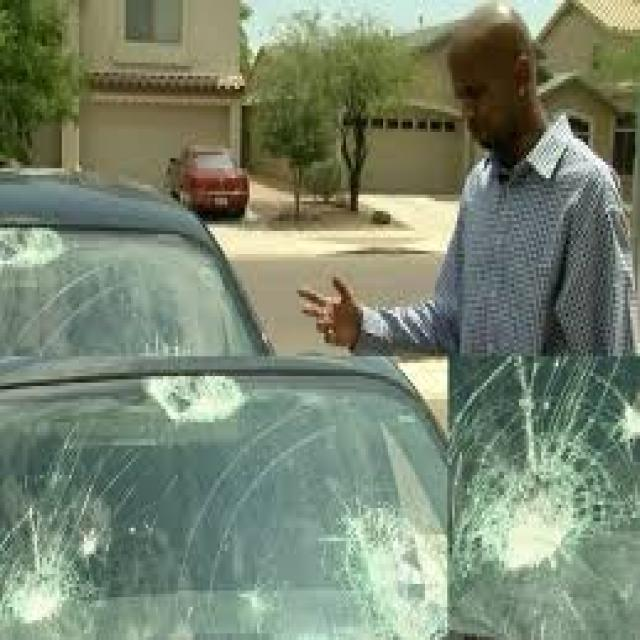damaged-windscreen: (2, 366, 450, 640)
